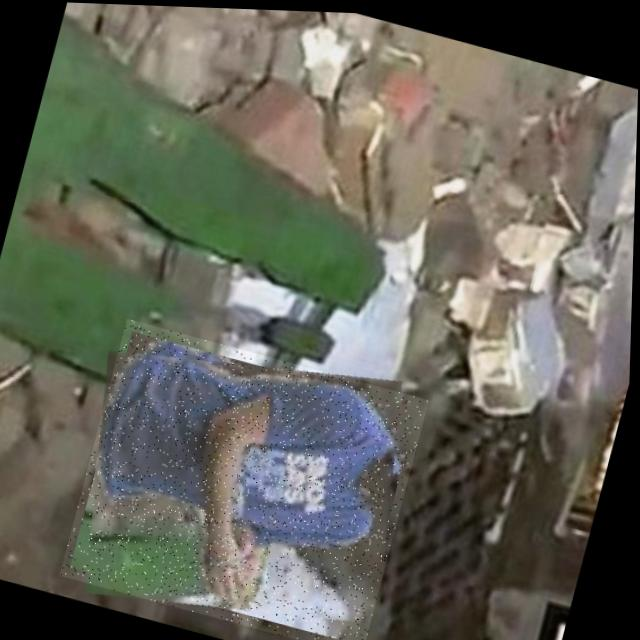Person in Rubble: (59, 315, 431, 640)
